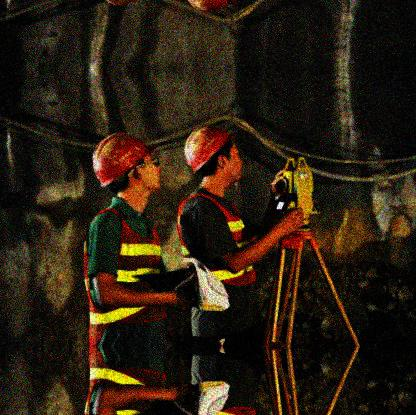helmet: (91, 133, 163, 196), (184, 123, 244, 182)
